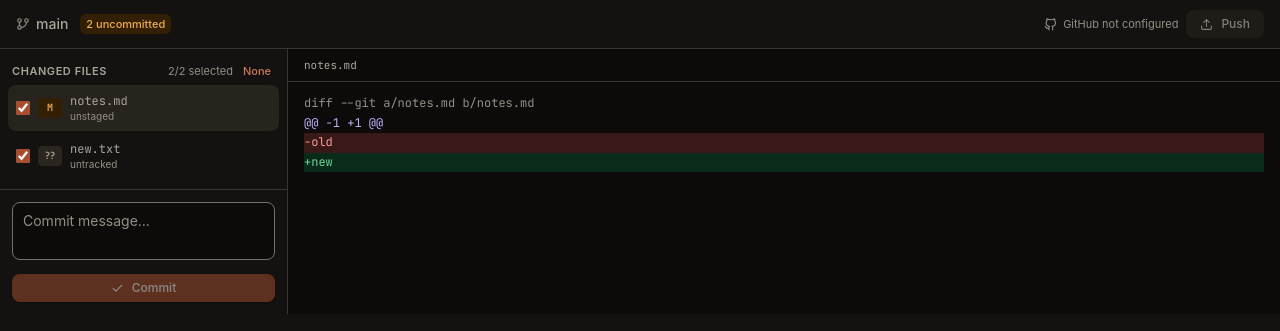
Test case: ChangesPane: status + diff › selecting an untracked file shows its content, not a 'no diff' dead end (issue #107)
Click the text "new.txt": (95, 149) left=70, top=141, right=120, bottom=157
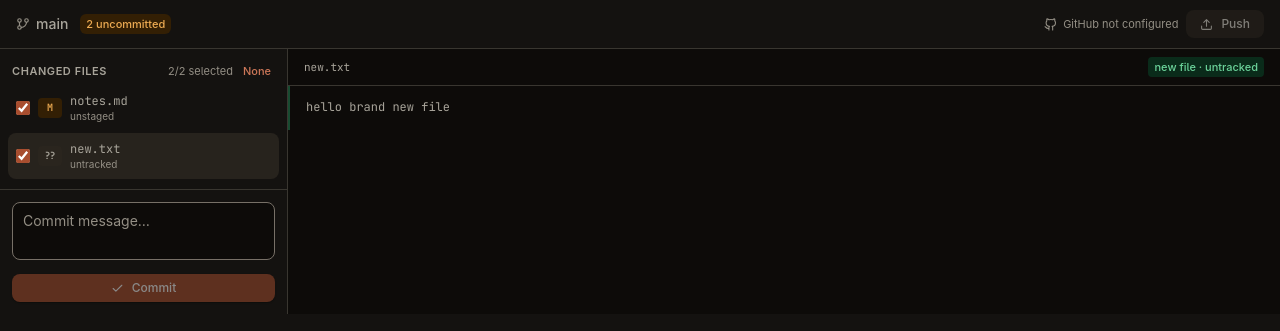
Result: the text "hello brand new file" is shown at left=288, top=86, right=1279, bottom=130
Result: the text "new file · untracked" is shown at left=1148, top=57, right=1264, bottom=77
